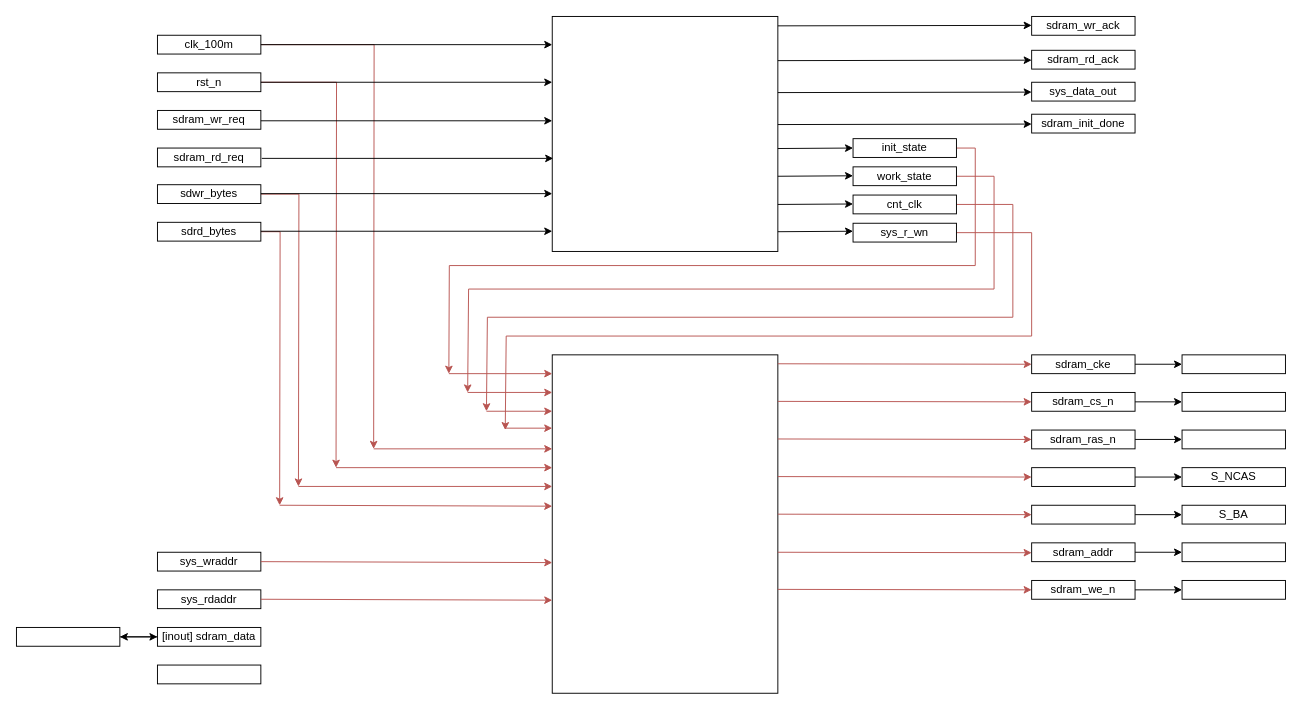
The diagram is 1302 pixels wide and 710 high, and some of its shapes have lost their labels. The shapes that lost their labels are listed below. From the top down, each one's centre as x and y in pixels, then its label:
At (x=664, y=133): "sdram_ctrl".
At (x=1233, y=364): "S_CKE".
At (x=1233, y=401): "S_NCS".
At (x=1233, y=439): "S_NRAS".
At (x=1083, y=476): "sdram_cas_n".
At (x=664, y=523): "sdram_cmd".
At (x=1083, y=514): "sdram_ba".
At (x=1233, y=552): "S_A".
At (x=1233, y=589): "S_NWE".
At (x=68, y=636): "S_DB".
At (x=209, y=674): "sys_data_in".
